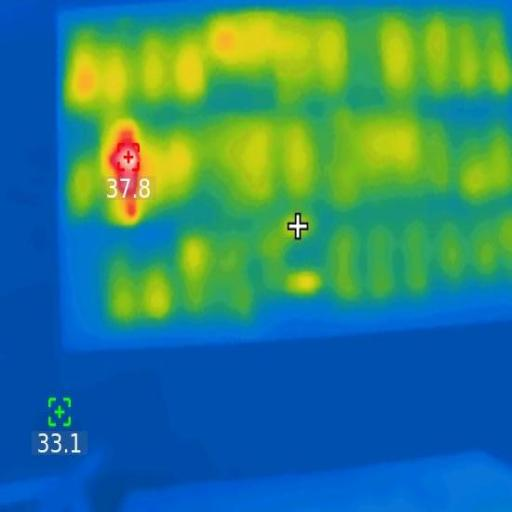hotspot: (106, 128, 146, 222)
